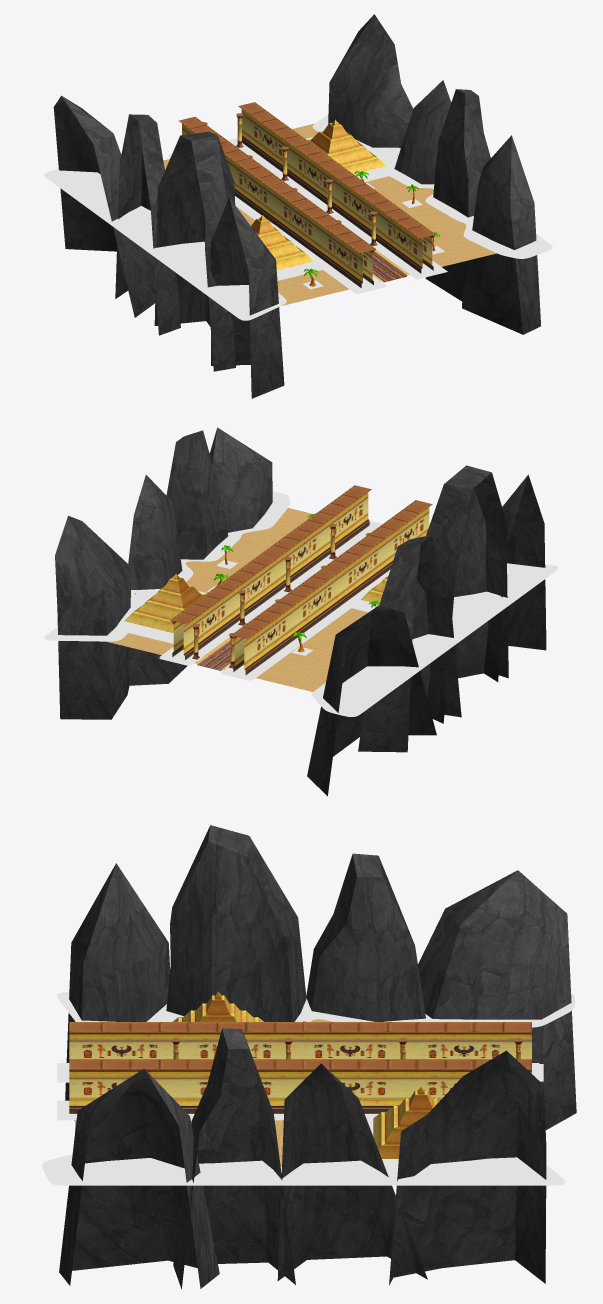
The model's file is Egypt_03.fbx.
The picture shows the model from 3 angles, top to bottom: view 1: azimuth 30°, elevation 25°; view 2: azimuth 150°, elevation 25°; view 3: azimuth 270°, elevation 25°; orthographic projection. The views are drawn at different scales.
Parts seen in each view (by area): view 1: Egypt_03; view 2: Egypt_03; view 3: Egypt_03.
Boxes of the visible parts, <box> form: Egypt_03: <box>44,14,552,398</box>; Egypt_03: <box>44,427,558,796</box>; Egypt_03: <box>42,825,576,1288</box>.
Bounding box in the file's own units: 22617 × 13384 × 25170.
12 materials, 12 textured.
